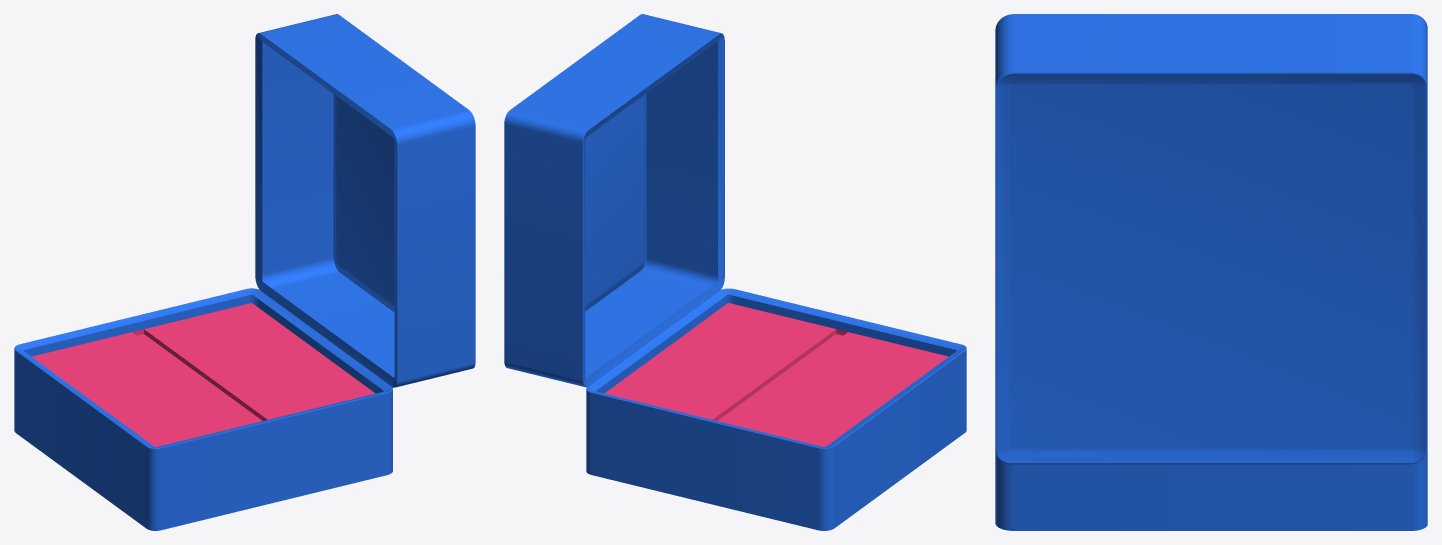
Rendered from ring box son versiya.fbx.
3 views of the same model, side by side, from view 1: azimuth 30°, elevation 25°; view 2: azimuth 150°, elevation 25°; view 3: azimuth 270°, elevation 25° (orthographic). The views are drawn at different scales.
Visible parts, largest first — view 1: Cube.018, Cube.010, Cube.011; view 2: Cube.018, Cube.010, Cube.011; view 3: Cube.018, Cube.010.
Boxes of the visible parts, x1=… form: Cube.018: x1=255, y1=14, x2=475, y2=387; Cube.010: x1=14, y1=288, x2=392, y2=530; Cube.011: x1=32, y1=303, x2=375, y2=446; Cube.018: x1=504, y1=14, x2=724, y2=387; Cube.010: x1=586, y1=288, x2=966, y2=530; Cube.011: x1=604, y1=303, x2=948, y2=446; Cube.018: x1=995, y1=14, x2=1427, y2=464; Cube.010: x1=995, y1=450, x2=1427, y2=530.
Bounding box in the file's own units: 169 × 169 × 128.
